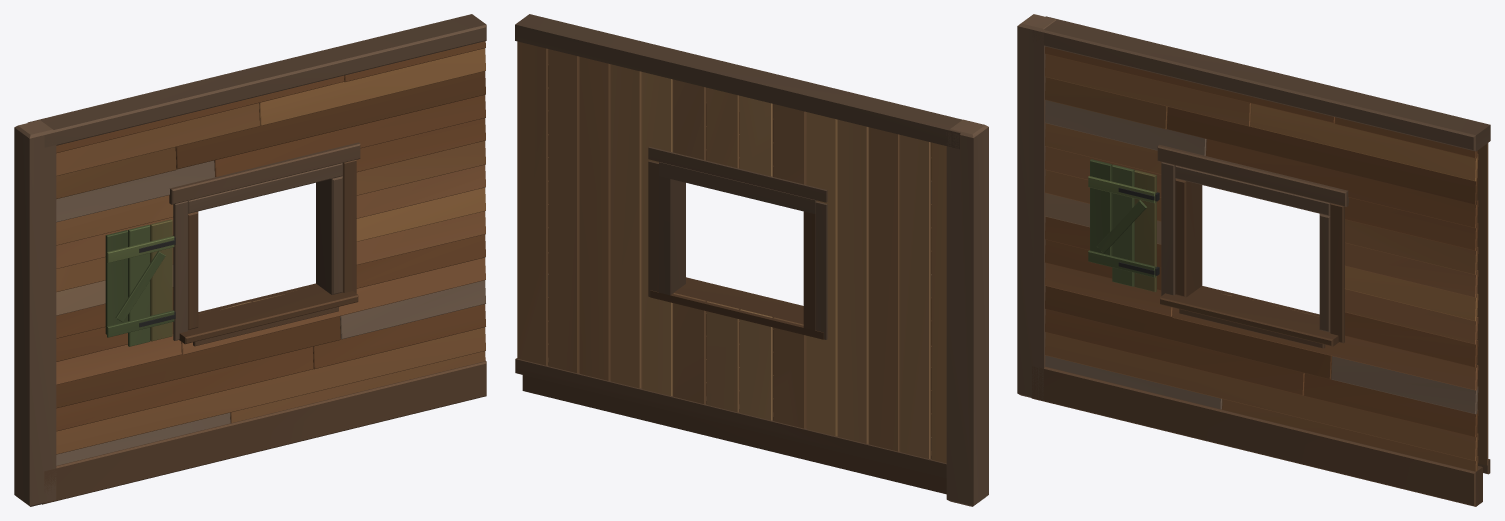
File: wood_wall_window_01.glb
3 renders of one model, left to right at view 1: azimuth 30°, elevation 25°; view 2: azimuth 150°, elevation 25°; view 3: azimuth 330°, elevation 25°, orthographic.
Visible parts, largest first — view 1: wood_wall_window_01_body, corner_post; view 2: wood_wall_window_01_body, corner_post; view 3: wood_wall_window_01_body, corner_post.
Boxes of the visible parts, left/top/right/bottom form: wood_wall_window_01_body: left=27, top=14, right=486, bottom=504; corner_post: left=14, top=120, right=56, bottom=506; wood_wall_window_01_body: left=515, top=14, right=962, bottom=494; corner_post: left=946, top=119, right=988, bottom=506; wood_wall_window_01_body: left=1031, top=16, right=1490, bottom=506; corner_post: left=1017, top=14, right=1056, bottom=399.
Bounding box in the file's own units: 4.12 × 3.2 × 0.36.
